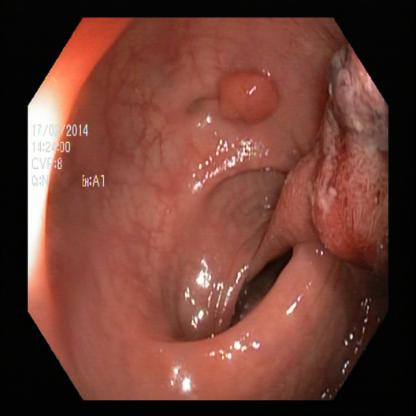Polyps: (323, 70, 374, 260), (207, 59, 295, 136)
